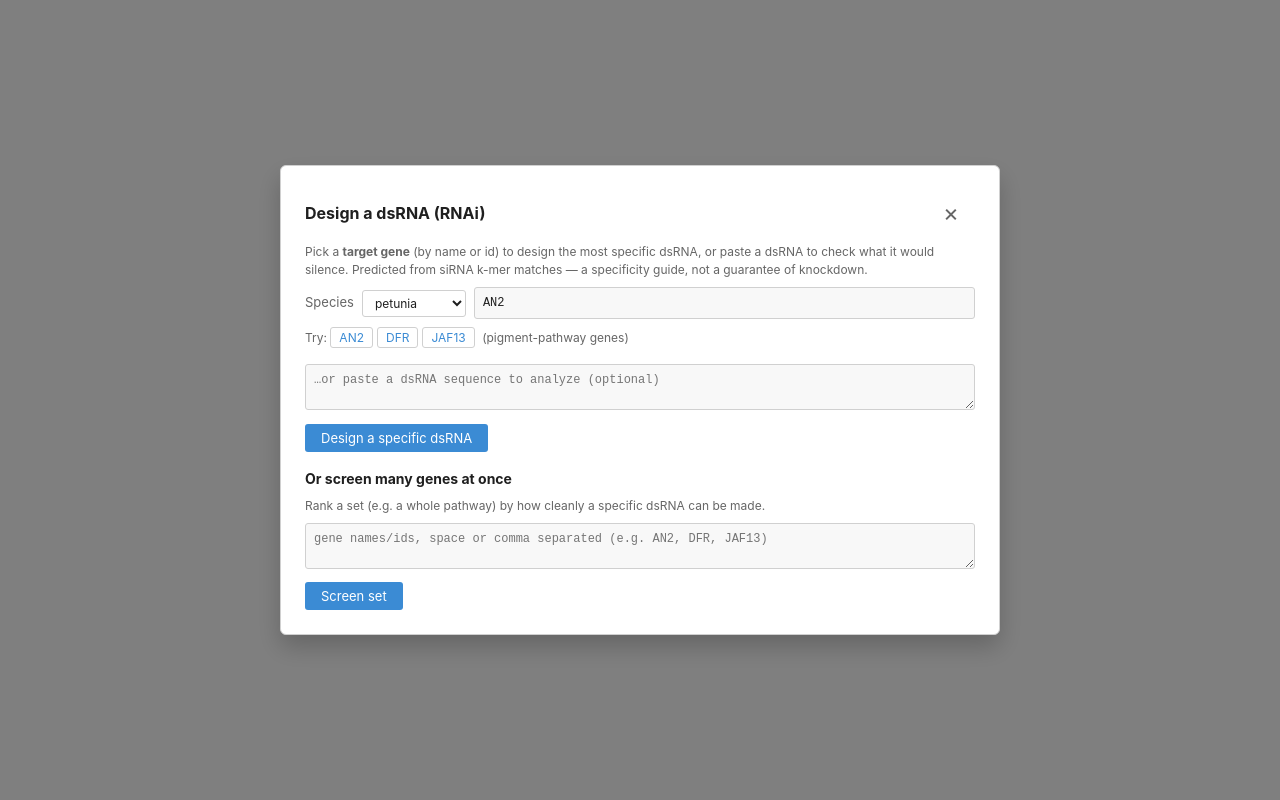
DsRnaPanel › designs a dsRNA and shows the specificity verdict + on-target
Click the button "Design a specific dsRNA" at coordinates (397, 438), box 305,424 -> 488,452
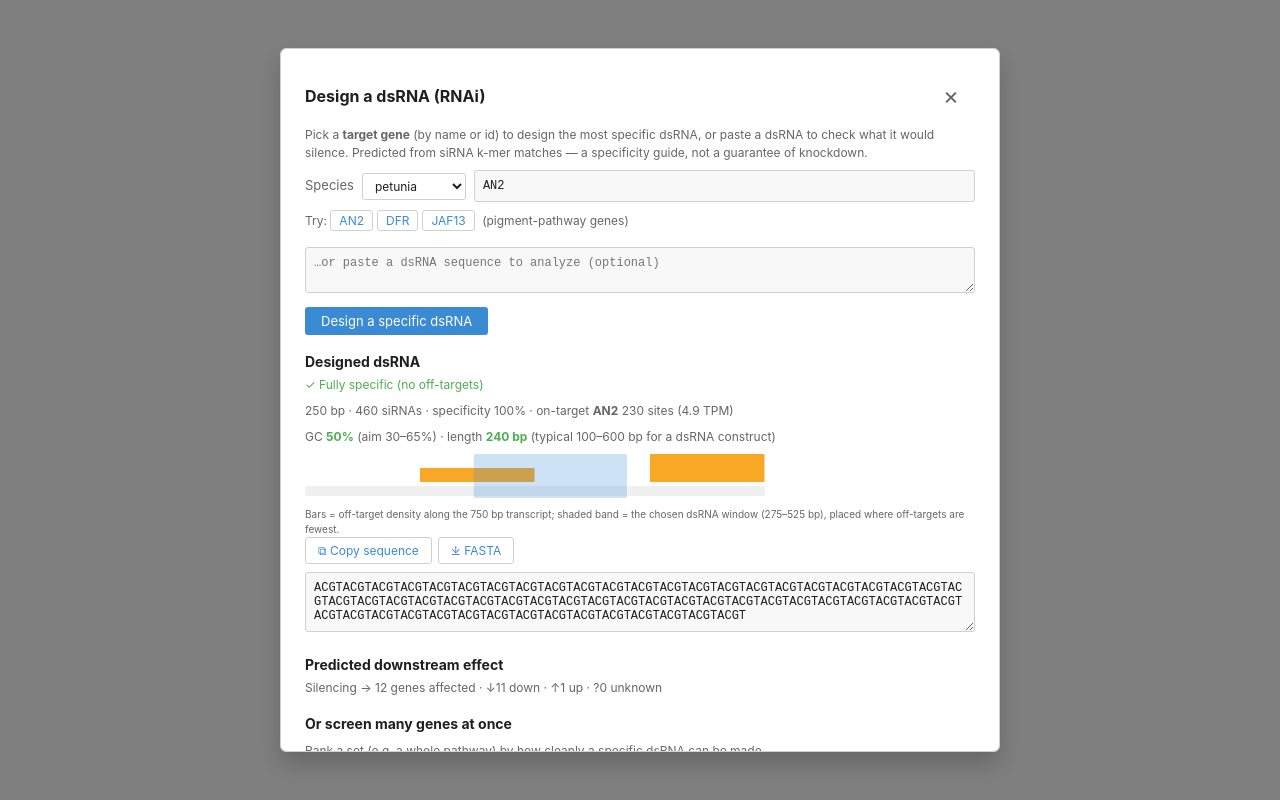
Result: the text "✓ Fully specific (no off-targets)" is shown at 305,376 -> 484,392
Result: the text "230 sites" is shown at 305,402 -> 734,418
Result: the text "12 genes affected" is shown at 305,680 -> 662,694
